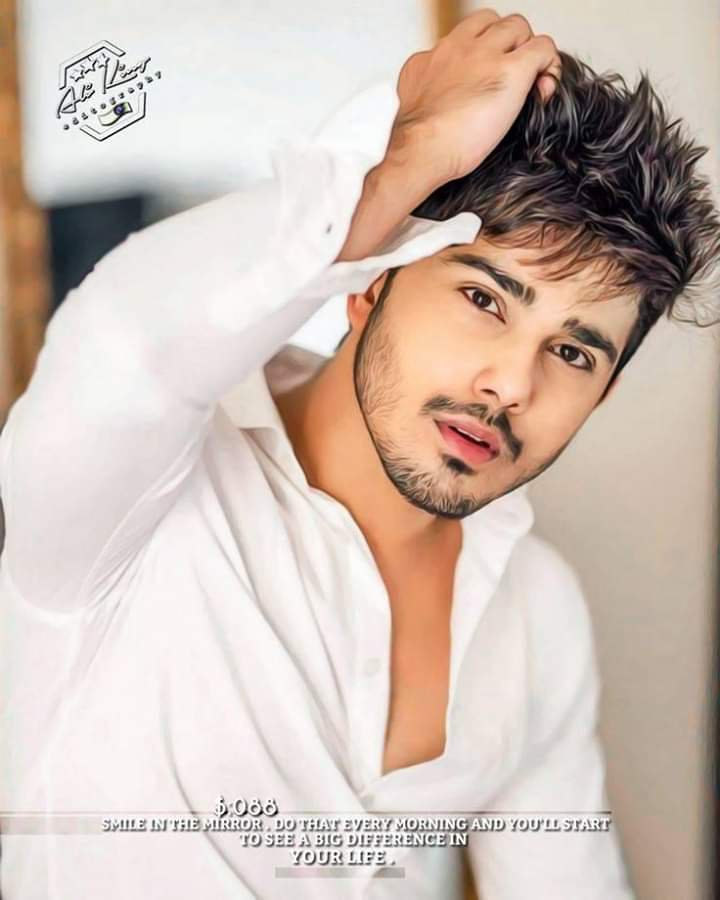noMask: (352, 211, 665, 508)
